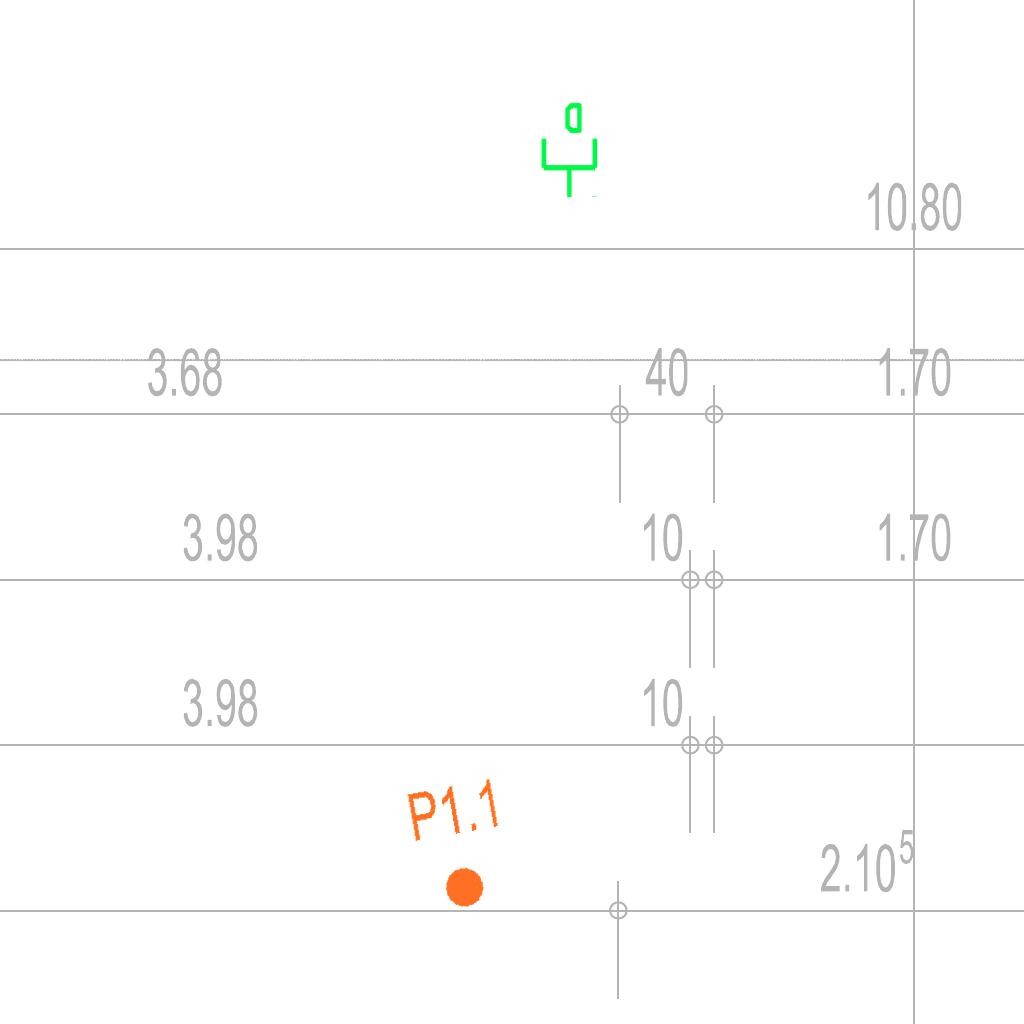Datenanschluss_einfach: (533, 100, 602, 200)
Downlight_LED_Einbauleuchten_Flur: (403, 774, 518, 918)
